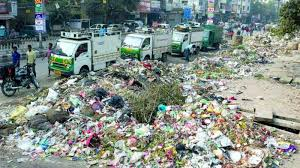garbage: (20, 95, 275, 168), (59, 76, 226, 168), (120, 60, 226, 166)
